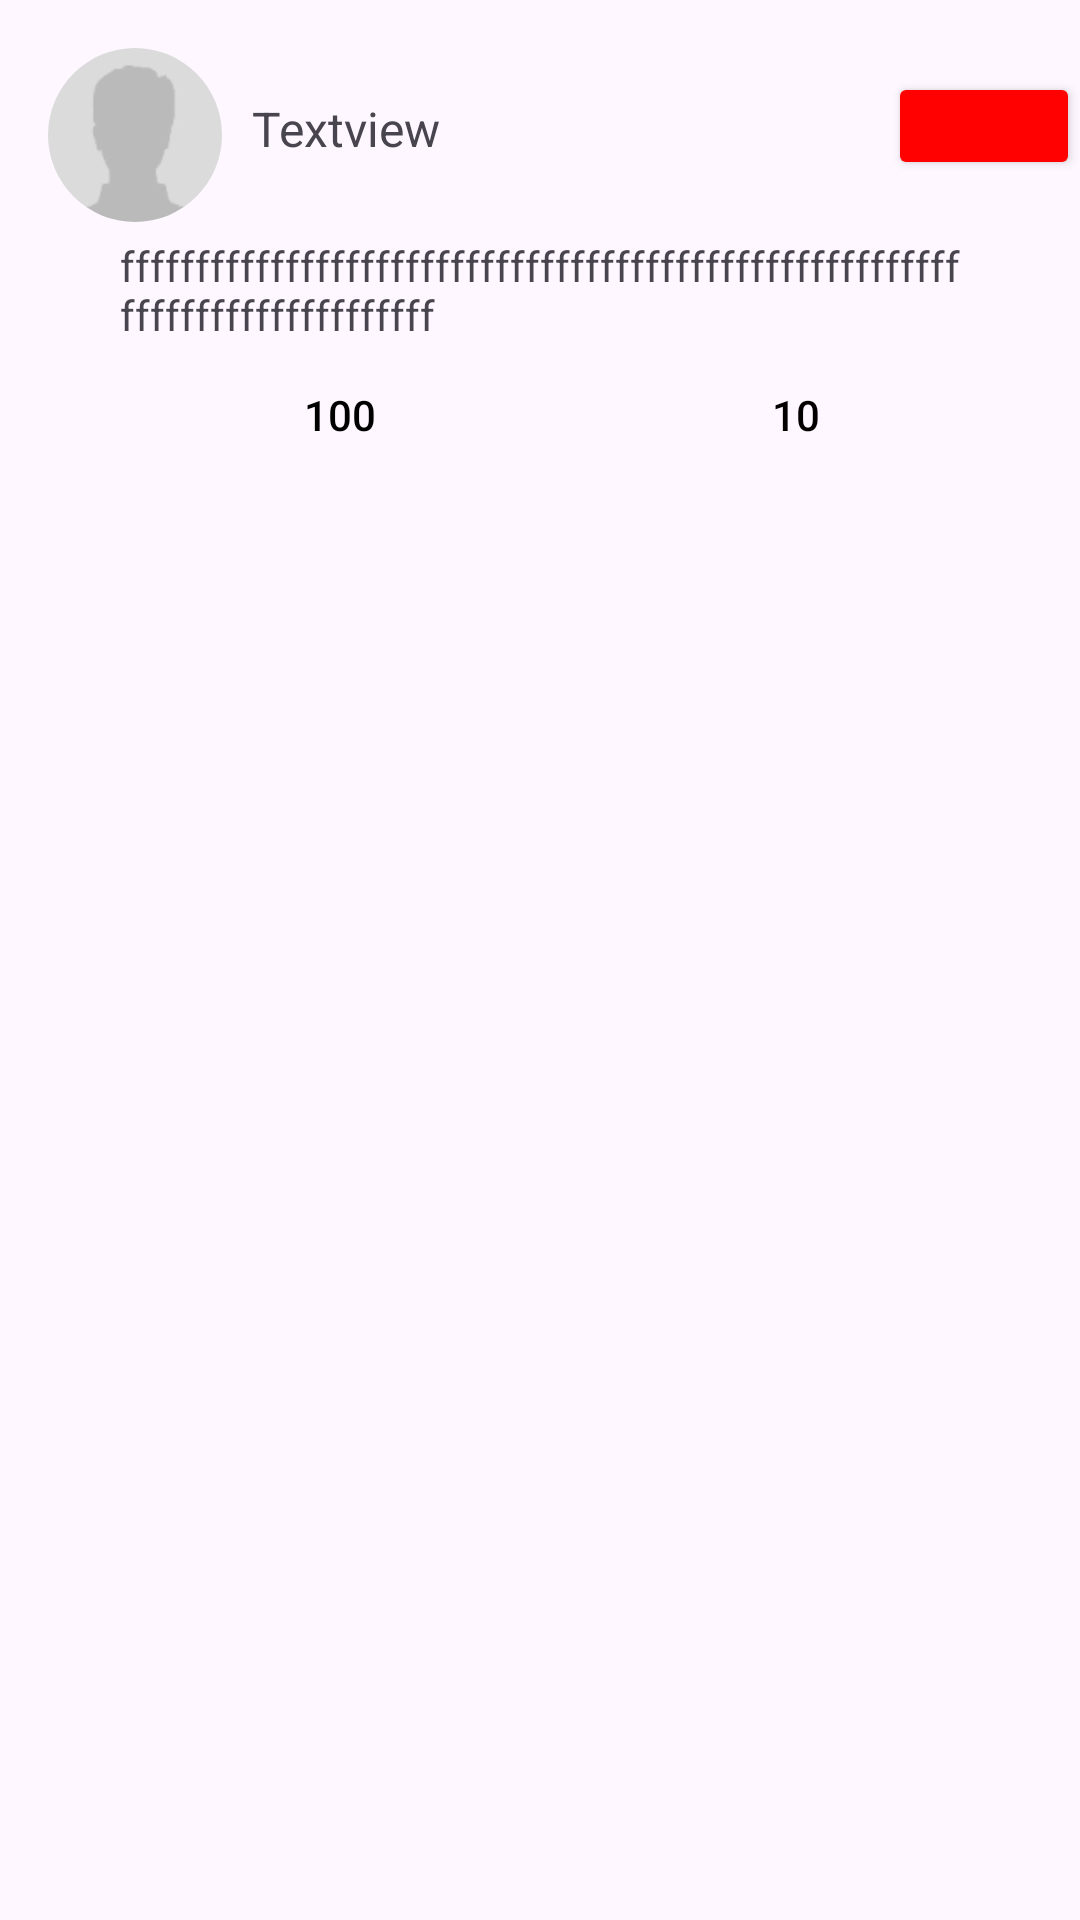

Screen size 1080w x 1920h. Icon name, then its box in pixels as (x1, y1, x2, y2):
fotoperfil: (48, 48, 222, 222)
